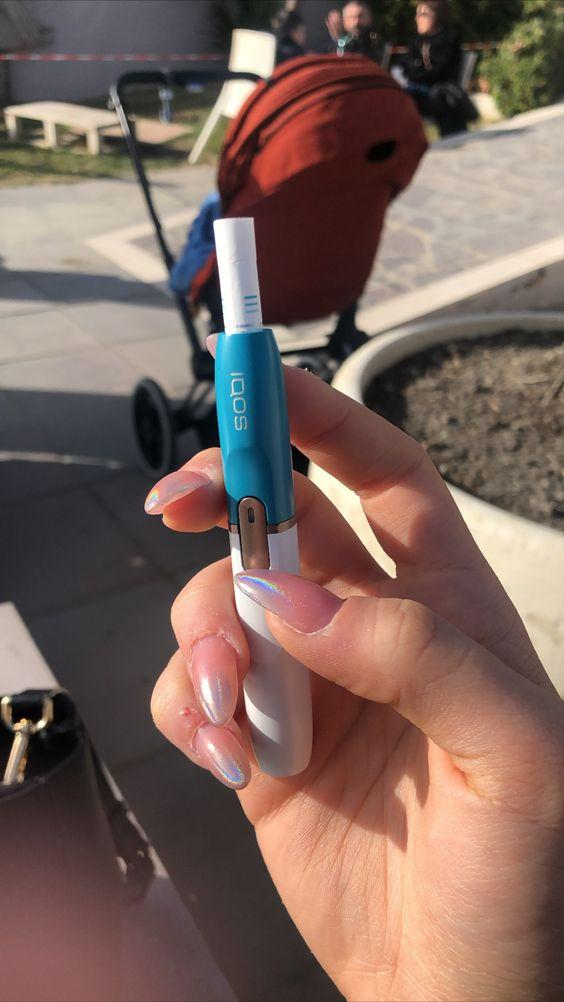iqos: (215, 218, 311, 777)
